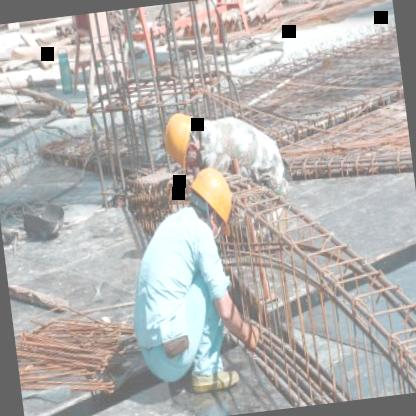helmet: (174, 157, 244, 251), (156, 104, 203, 174)
